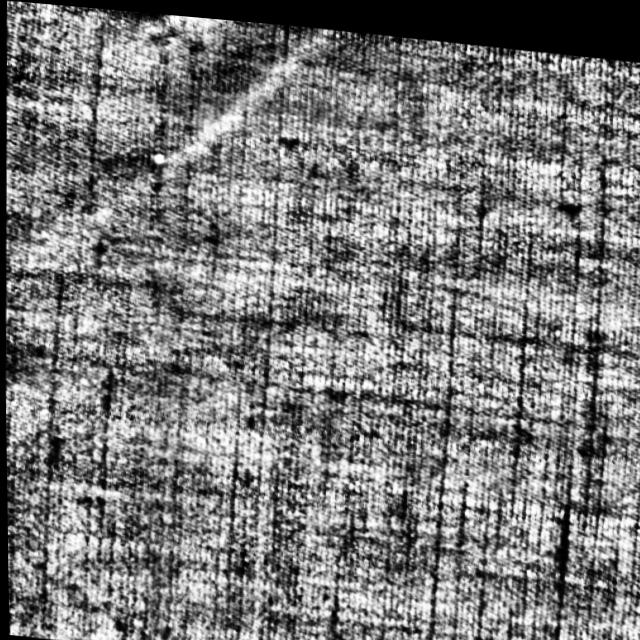Hole: (147, 148, 167, 164)
